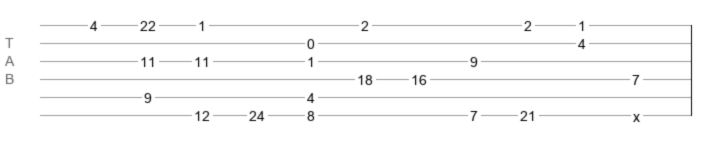0: (307, 36, 315, 46)
1: (198, 18, 206, 28), (307, 54, 315, 64), (578, 18, 586, 28)
11: (140, 54, 156, 64), (194, 54, 210, 64)
12: (194, 108, 210, 118)
16: (411, 72, 427, 82)
18: (357, 72, 373, 82)
2: (361, 18, 369, 28), (524, 18, 532, 28)
21: (520, 108, 536, 118)
22: (140, 18, 156, 28)
24: (249, 108, 265, 118)
4: (90, 18, 98, 28), (307, 90, 315, 100), (578, 36, 586, 46)
7: (470, 108, 478, 118), (632, 72, 640, 82)
8: (307, 108, 315, 118)
9: (144, 90, 152, 100), (470, 54, 478, 64)
x: (633, 109, 640, 117)
